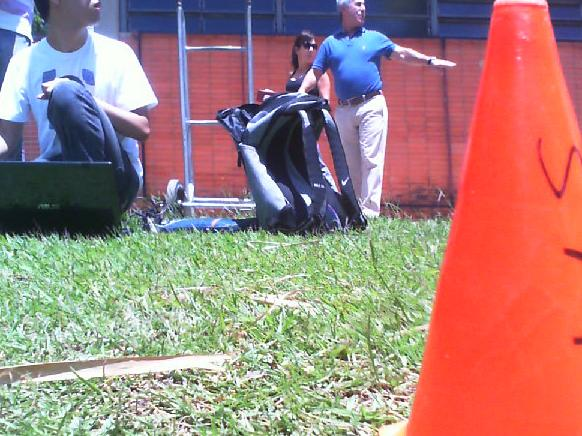0 cone: (377, 0, 582, 436)
